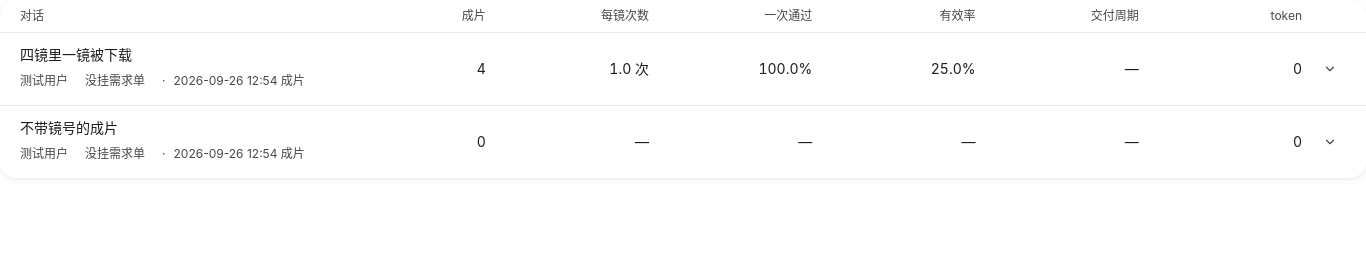
Test case: ConversationsPanel › 每段对话给出有效率，没有出片镜的是破折号；镜头带标出有人下载过的镜
What coordinates should you click on to do the following:
click the button named "展开镜头明细" in the row of "25.0%"
I would click on:
 (1330, 69)
Its box is [1314,53,1346,85].
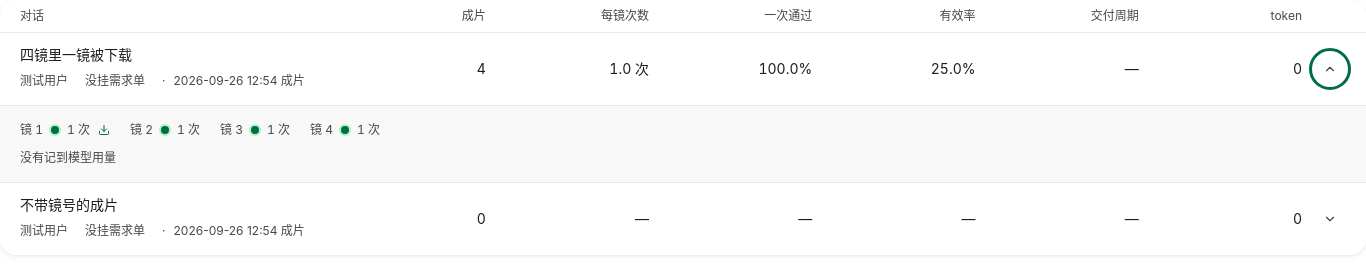
Expected: the element titled "有人下载过" is shown, [98,124,110,136]
